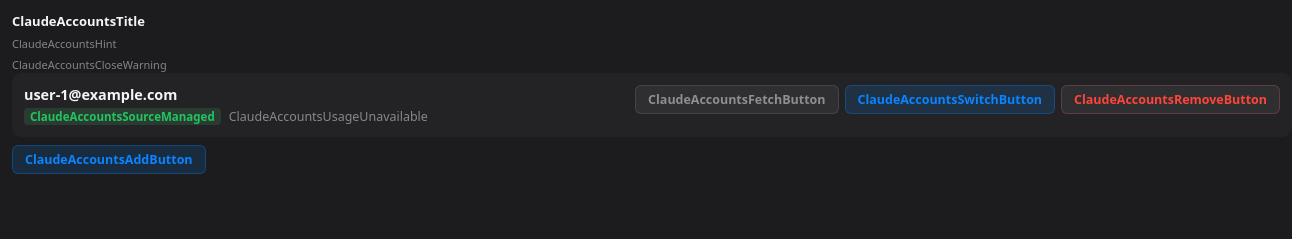
Test: ClaudeAccountsSection › keeps the switch success state when the provider refresh rejects
Click the button "ClaudeAccountsSwitchButton": (950, 99) [844,85,1055,114]
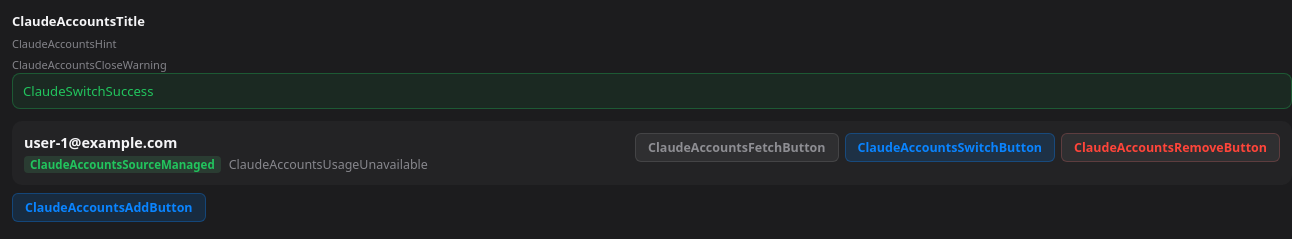
Result: the text "ClaudeSwitchSuccess" is shown at [12,73,1291,109]
